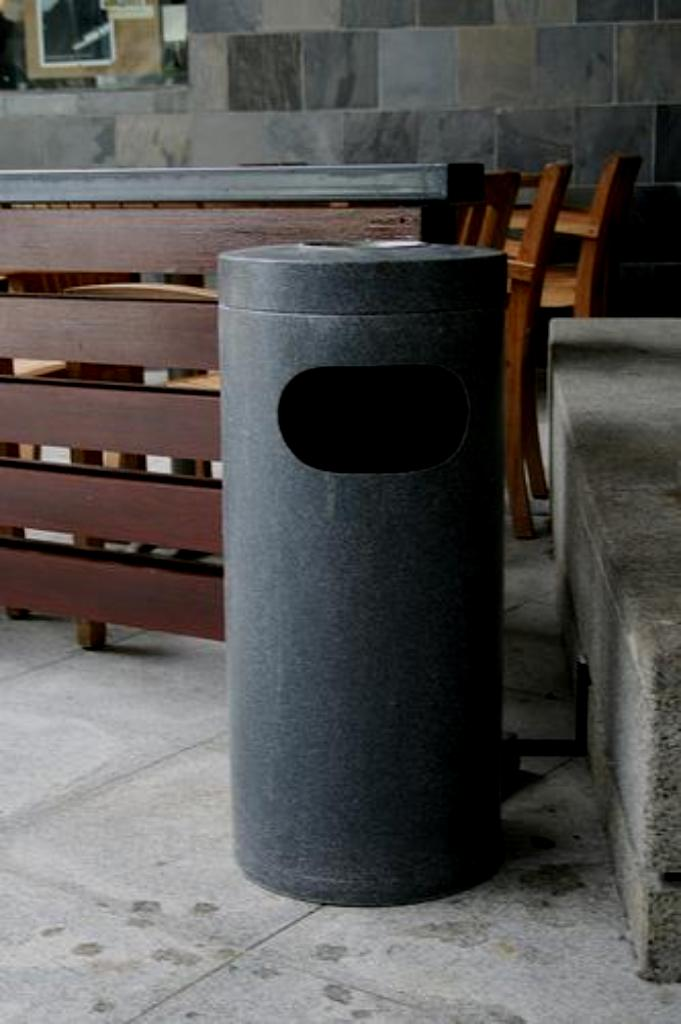dustbin: (202, 227, 530, 908)
